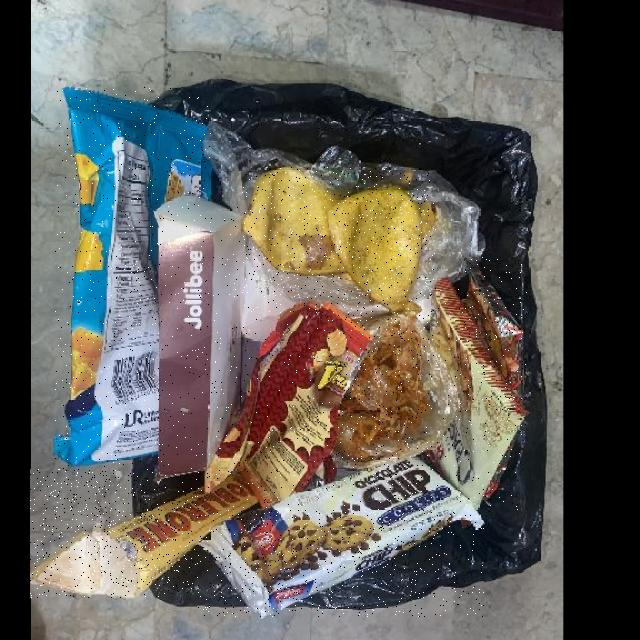biowaste: (242, 168, 436, 313), (335, 313, 428, 464)
paper: (30, 469, 258, 598), (155, 195, 245, 483), (243, 260, 295, 343)
wrapper: (55, 88, 212, 469), (198, 458, 484, 617), (204, 303, 373, 510), (426, 277, 527, 511), (466, 257, 524, 400)
